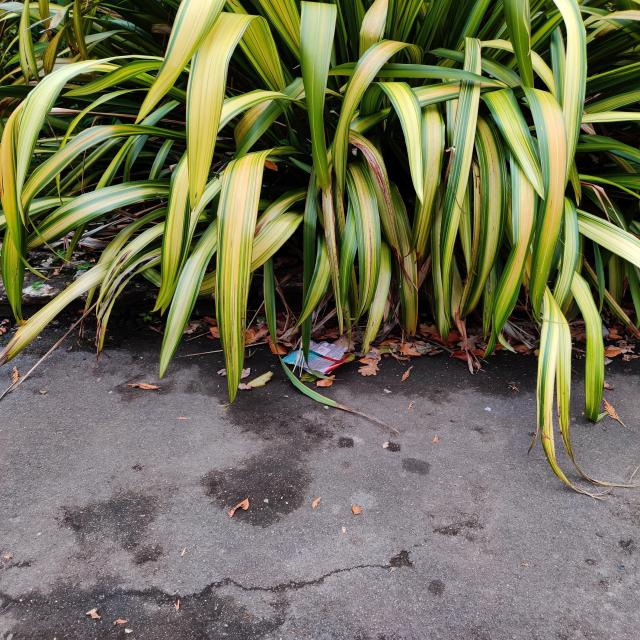litter: (284, 330, 353, 374), (19, 275, 60, 304)
